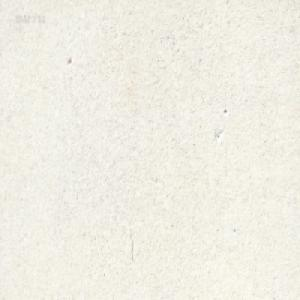Wrench: (134, 0, 140, 4)
